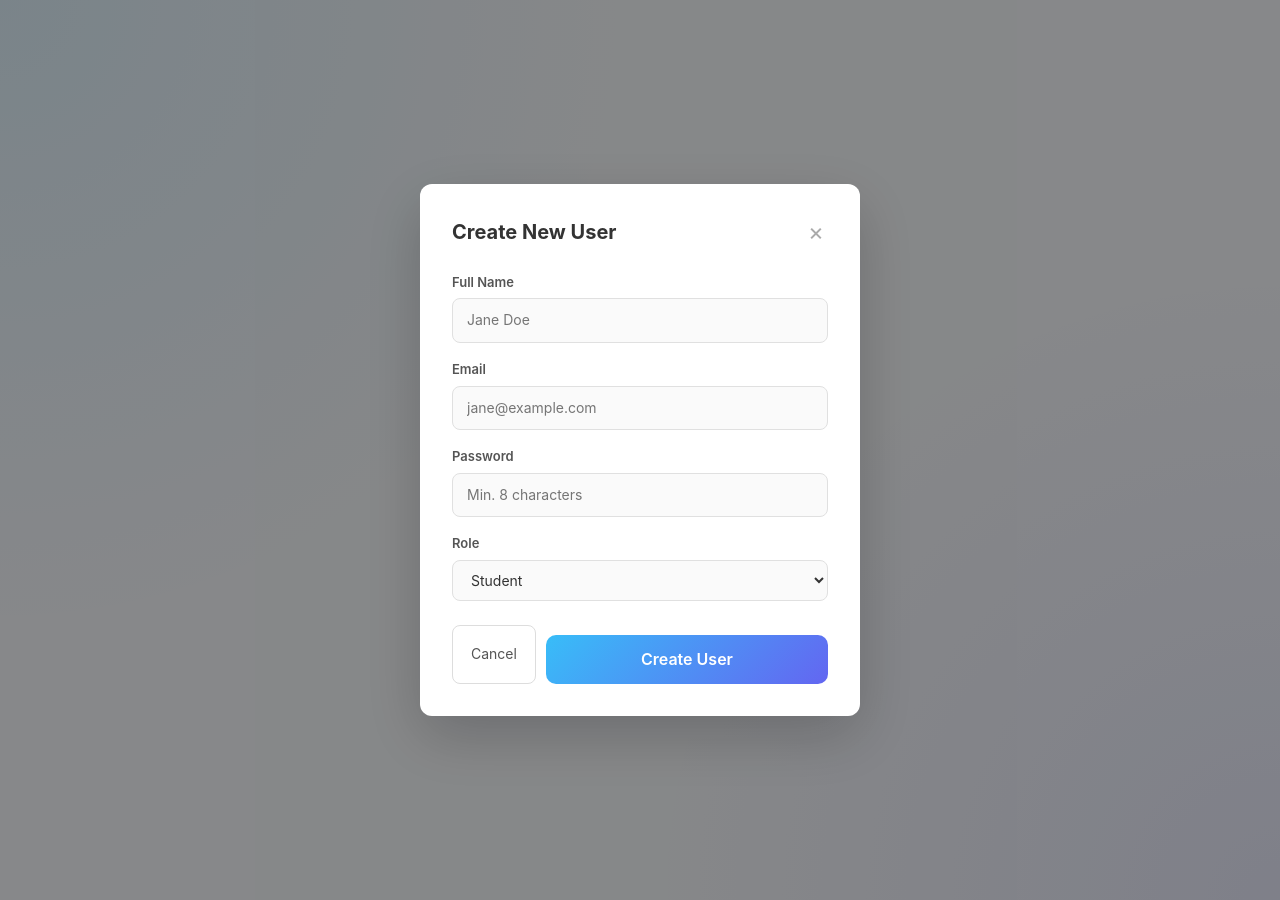
Test: CreateUserModal › submit with invalid fields › shows all field errors on submit when the form is empty
Click the button "Create User": (687, 660) [546,635,828,684]
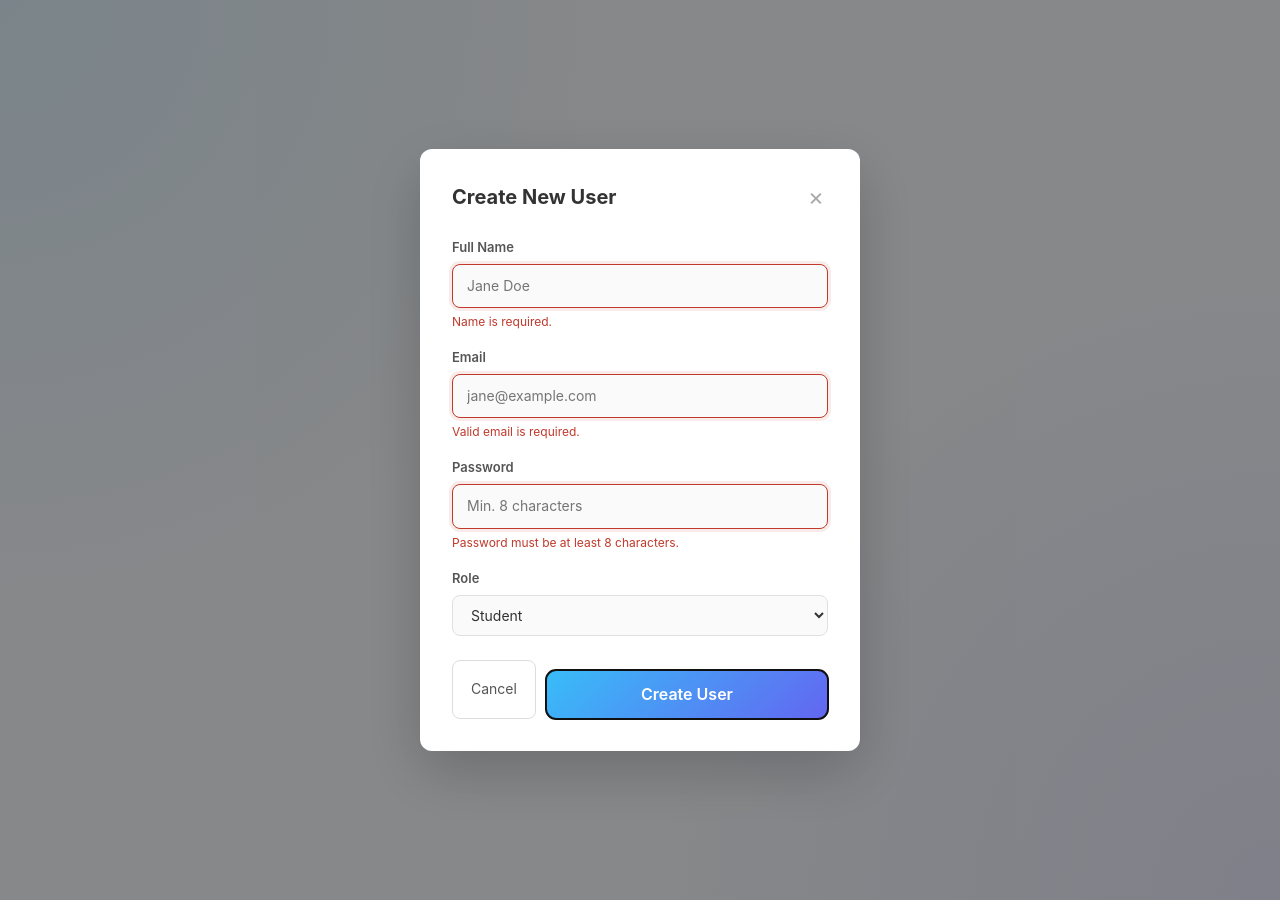
Now the text "Name is required." is shown, box [452,314,552,329]
Now the text "Valid email is required." is shown, box [452,424,580,439]
Now the text "Password must be at least 8 characters." is shown, box [452,535,679,550]
